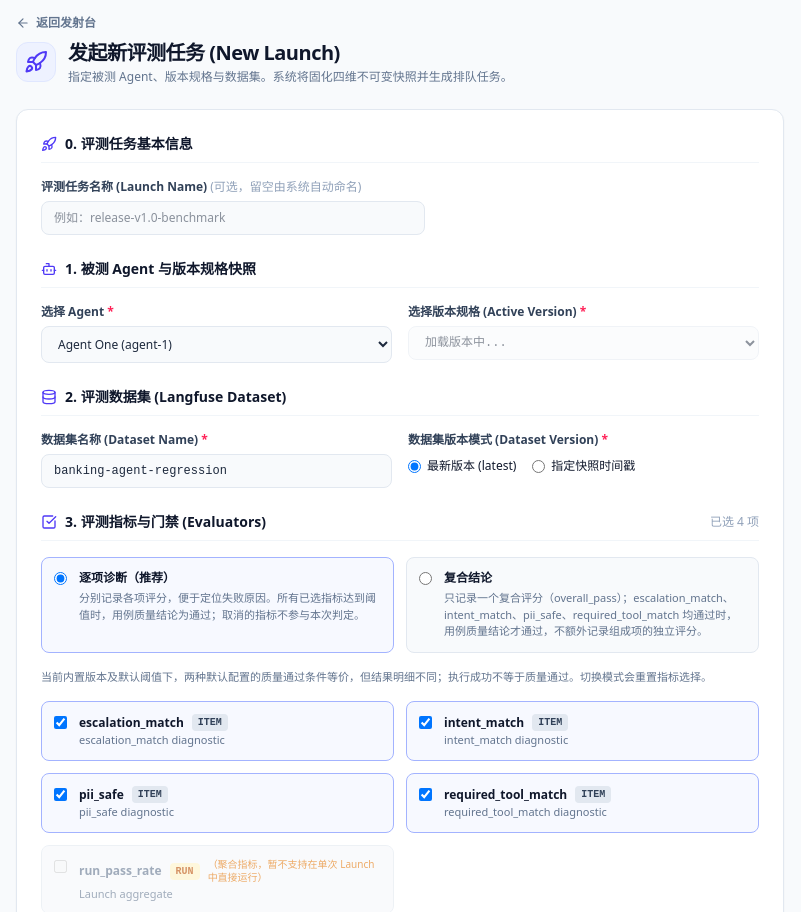
CreateLaunch Evaluator selection › switches exclusively between diagnostic and composite results
The width and height of the screenshot is (801, 912).
Check: the text "已选 4 项" is shown, box [710,514,759,530]
Step 1. Click the radio button labelled "复合结论" → x=426, y=578, box [419,572,432,585]
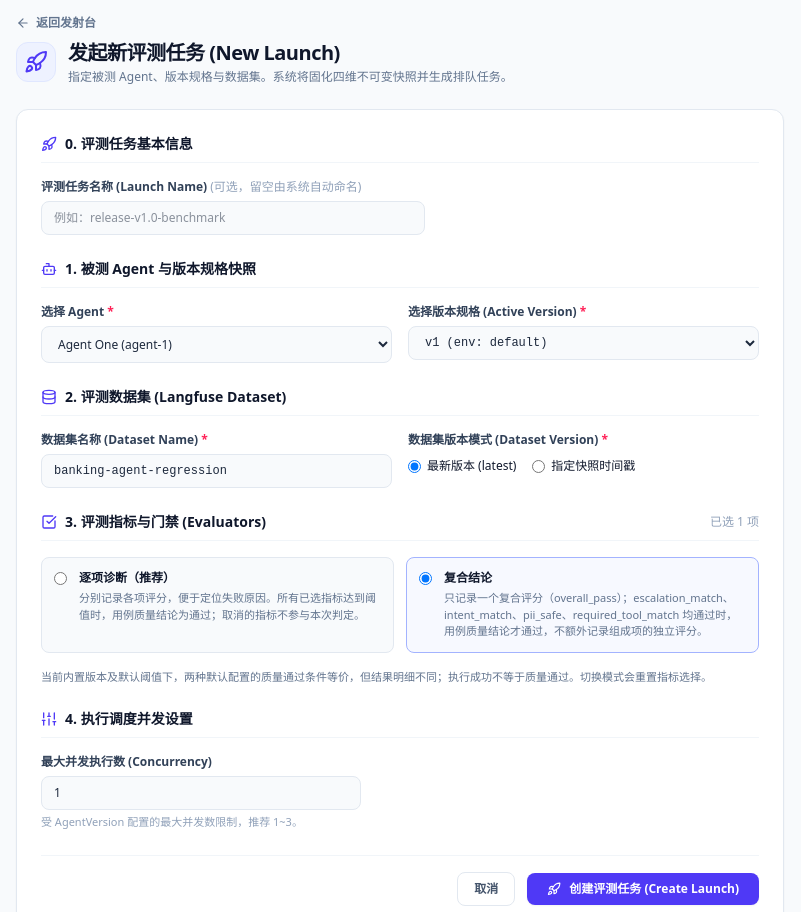
Check: the checkbox labelled "required_tool_match" is not shown
Check: the radio button labelled "复合结论" is checked, box [419,572,432,585]
Check: the text "已选 1 项" is shown, box [710,514,759,530]
Step 2. Click the radio button labelled "逐项诊断" → x=60, y=578, box [54,572,67,585]
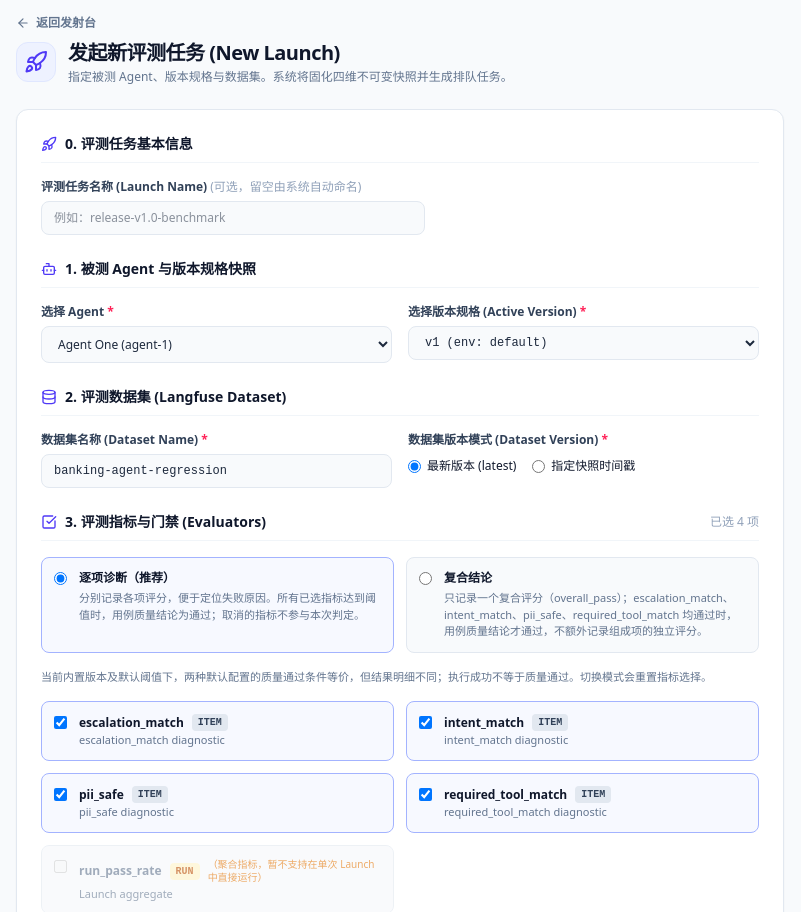
Check: the radio button labelled "复合结论" is not checked, box [419,572,432,585]
Check: the text "已选 4 项" is shown, box [710,514,759,530]
